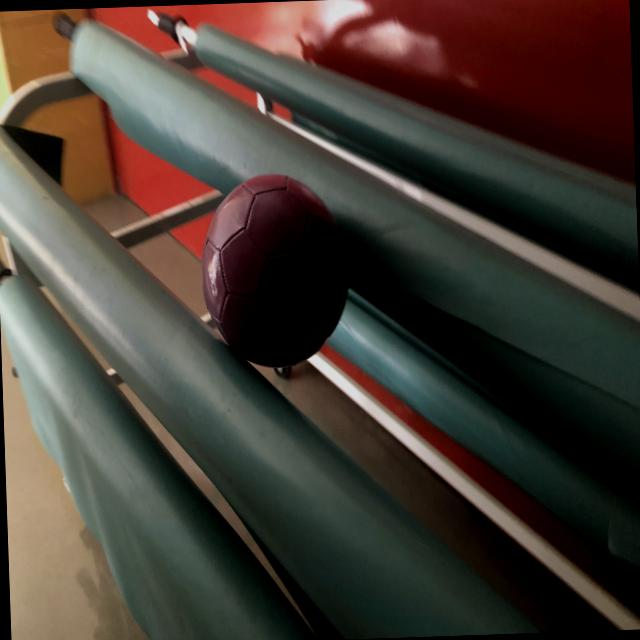purple_ball: (198, 171, 351, 367)
